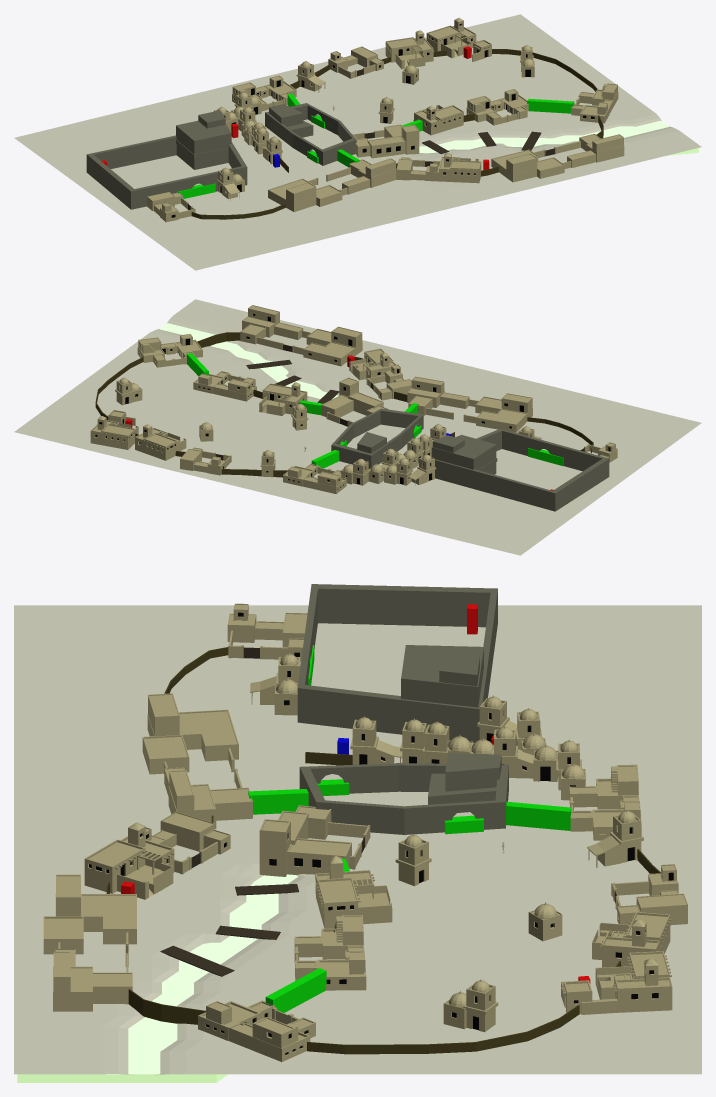
The model's file is Arabian city sombies.fbx.
3 views of the same model, one above another, from view 1: azimuth 30°, elevation 25°; view 2: azimuth 150°, elevation 25°; view 3: azimuth 270°, elevation 25° (orthographic). The views are drawn at different scales.
Visible parts, largest first — view 1: polySurface56, polySurface39, pCube132, polySurface6, polySurface52, polySurface35, polySurface157, pCube145, polySurface119, compound_1_maatje_amgio:pCube127, pCube146, pCube118 (+15 smaller); view 2: polySurface56, polySurface39, pCube132, polySurface52, polySurface6, polySurface35, pCube118, compound_1_maatje_amgio:pCube127, polySurface157, pCube145, pCube146, polySurface119 (+9 smaller); view 3: polySurface56, polySurface39, pCube132, polySurface52, polySurface35, polySurface157, polySurface6, compound_1_maatje_amgio:pCube127, polySurface159, pCube145, polySurface158, pCube118 (+31 smaller).
Boxes of the visible parts, left/top/right/bottom form: polySurface56: left=14, top=14, right=701, bottom=270; polySurface39: left=86, top=135, right=247, bottom=209; pCube132: left=268, top=158, right=396, bottom=211; polySurface6: left=176, top=110, right=231, bottom=169; polySurface52: left=265, top=103, right=356, bottom=165; polySurface35: left=419, top=120, right=698, bottom=155; polySurface157: left=426, top=17, right=491, bottom=61; pCube145: left=466, top=89, right=528, bottom=125; polySurface119: left=385, top=30, right=433, bottom=69; compound_1_maatje_amgio:pCube127: left=571, top=83, right=618, bottom=123; pCube146: left=232, top=75, right=296, bottom=111; pCube118: left=491, top=149, right=538, bottom=182; polySurface56: left=14, top=299, right=701, bottom=555; polySurface39: left=435, top=428, right=609, bottom=511; pCube132: left=407, top=376, right=532, bottom=432; polySurface52: left=331, top=408, right=423, bottom=468; polySurface6: left=431, top=435, right=497, bottom=474; polySurface35: left=159, top=323, right=338, bottom=399; pCube118: left=303, top=326, right=362, bottom=366; compound_1_maatje_amgio:pCube127: left=137, top=334, right=202, bottom=367; polySurface157: left=90, top=410, right=138, bottom=449; pCube145: left=193, top=371, right=256, bottom=401; pCube146: left=283, top=463, right=346, bottom=493; polySurface119: left=135, top=424, right=186, bottom=460; polySurface56: left=14, top=605, right=701, bottom=1075; polySurface39: left=297, top=584, right=497, bottom=742; pCube132: left=142, top=693, right=252, bottom=828; polySurface52: left=299, top=763, right=508, bottom=834; polySurface35: left=17, top=874, right=297, bottom=1082; polySurface157: left=561, top=951, right=672, bottom=1014; polySurface6: left=401, top=645, right=483, bottom=707; compound_1_maatje_amgio:pCube127: left=198, top=1000, right=315, bottom=1061; polySurface159: left=84, top=822, right=174, bottom=899; pCube145: left=294, top=915, right=366, bottom=990; polySurface158: left=315, top=856, right=392, bottom=928; pCube118: left=55, top=874, right=136, bottom=944.
Bounding box in the file's own units: 16637 × 1414 × 10320.
